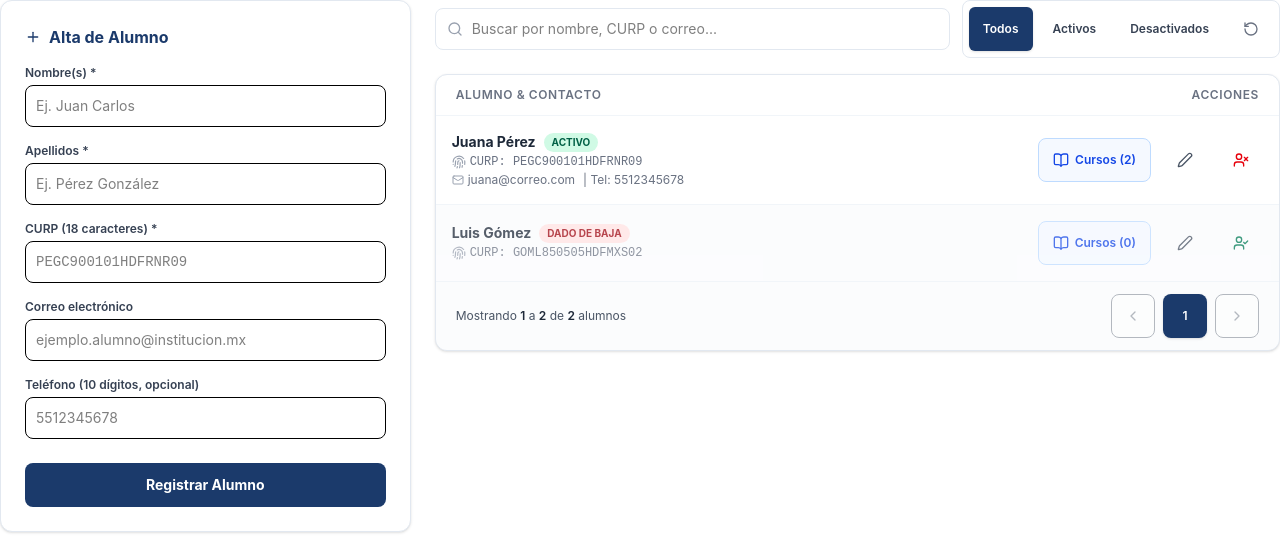
Test: ModuloAlumnos › formulario: editar alumno › al hacer clic en editar, precarga el formulario
Click the button named "editar expediente de juana pérez" at [1185, 160], box [1163,138,1207,182]
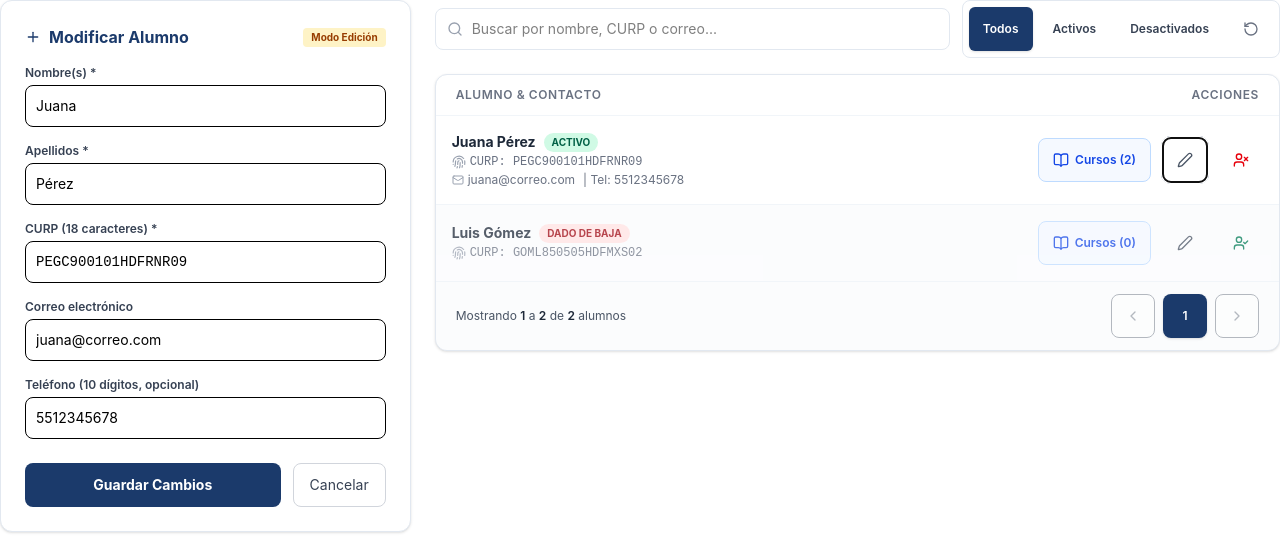
Result: the heading "Modificar Alumno" is shown at [25,25,189,49]
Result: the field labelled "Nombre(s) *" holds "Juana" at [25,85,386,127]
Result: the field labelled "Apellidos *" holds "Pérez" at [25,163,386,205]
